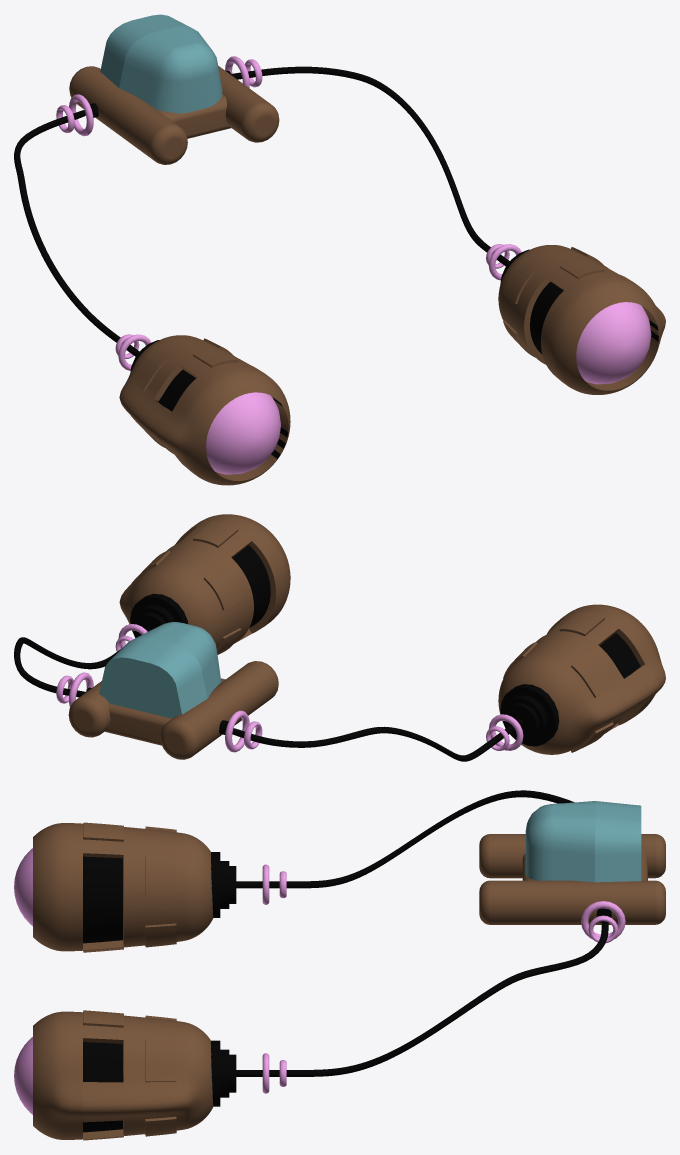
The model's file is podRacer.fbx.
3 views of the same model, one above another, from view 1: azimuth 30°, elevation 25°; view 2: azimuth 150°, elevation 25°; view 3: azimuth 270°, elevation 25° (orthographic). The views are drawn at different scales.
Parts seen in each view (by area): view 1: group3_pTorus3; view 2: group3_pTorus3; view 3: group3_pTorus3.
Boxes of the visible parts, bbox=[...] form: group3_pTorus3: bbox=[14, 14, 665, 485]; group3_pTorus3: bbox=[14, 514, 665, 761]; group3_pTorus3: bbox=[14, 790, 665, 1140].
Bounding box in the file's own units: 1622 × 685 × 1746.
